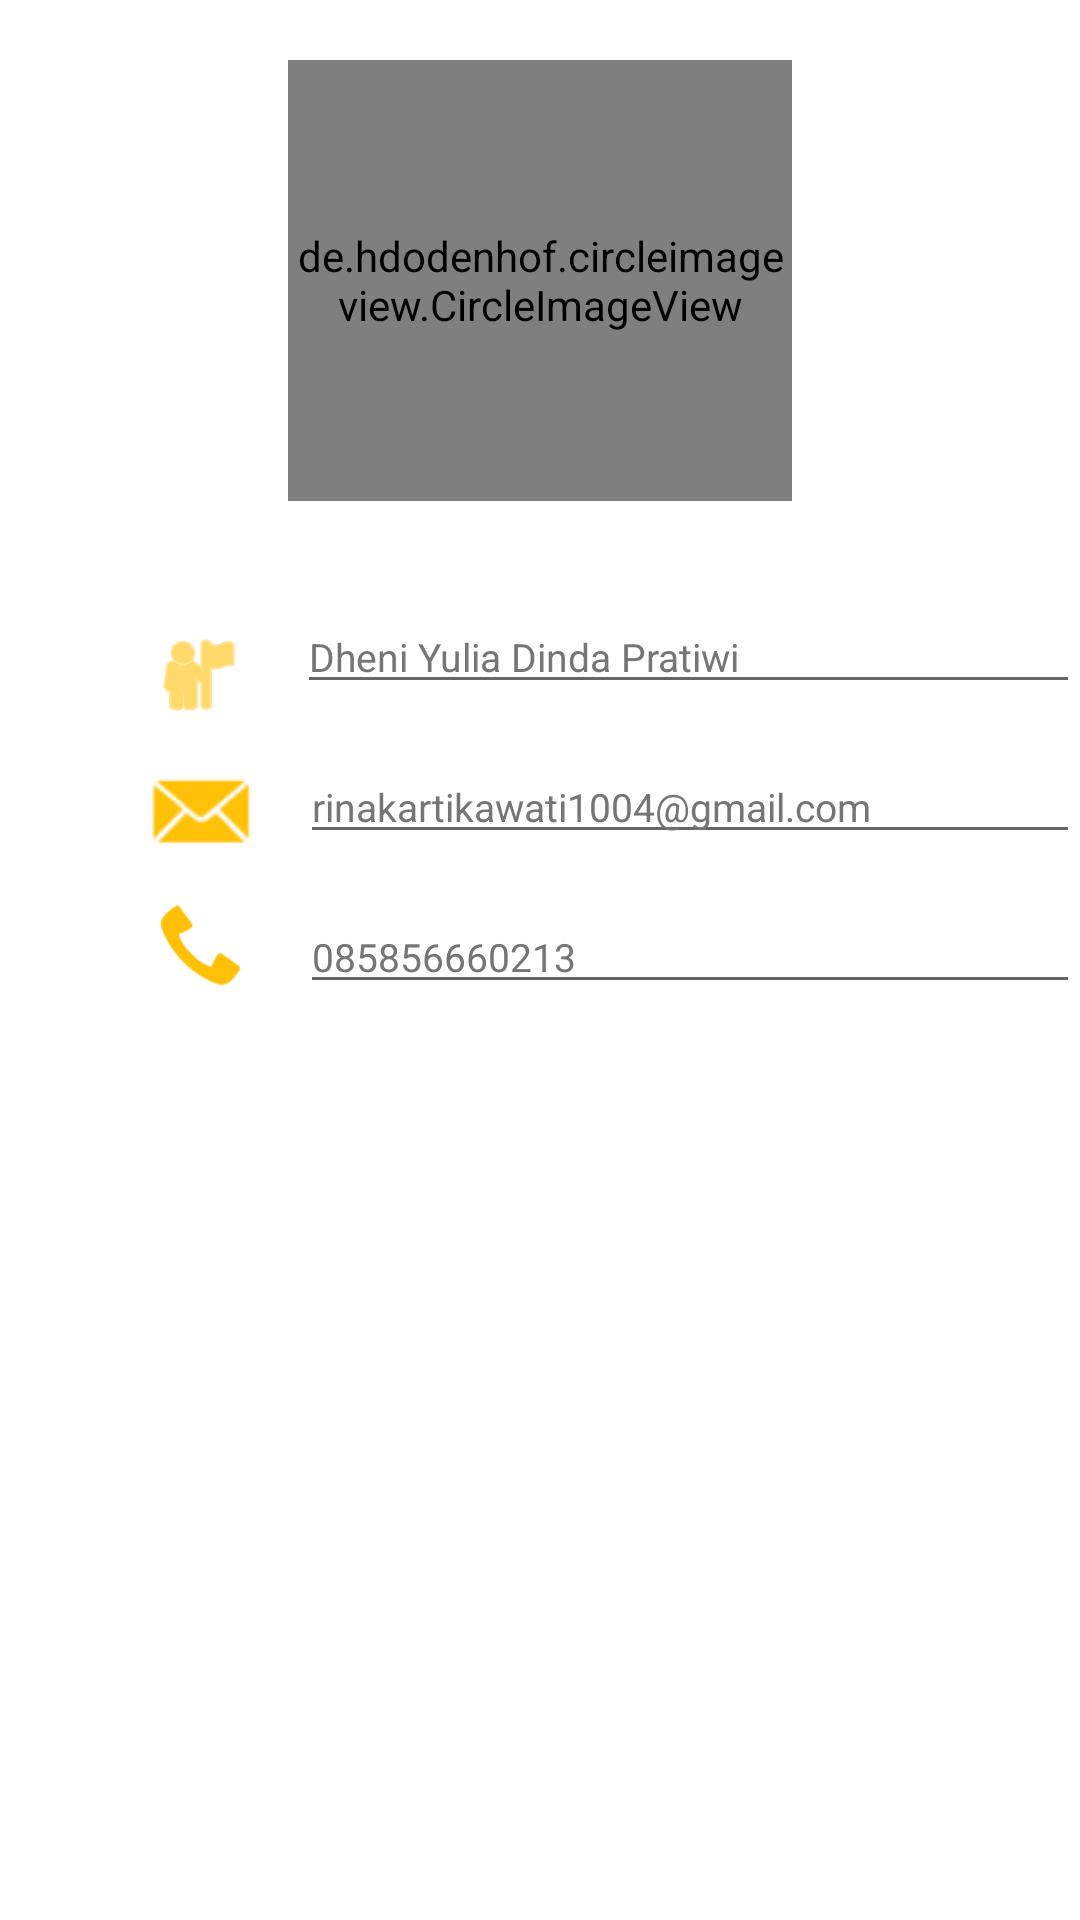

Icon click points for this 1080 × 1920 phone screenshot, format (x,y):
myplaces: (199,675)
phone call: (200,945)
sym action email: (201,811)
